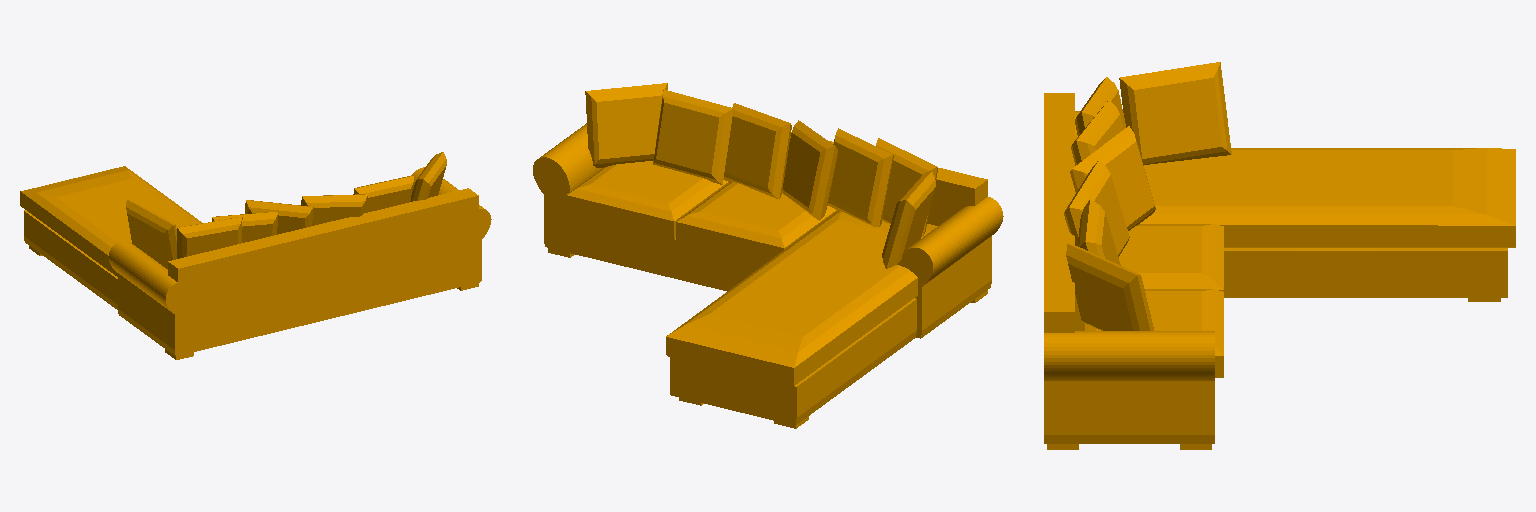
robot.urdf — 35ba544cb0a342e529404a50338e24e7:
<?xml version="1.0" ?>
<robot name="35ba544cb0a342e529404a50338e24e7">

  <link name="base">

    <inertial>
      <mass value="1"/>
      <inertia ixx="1" ixy="0" ixz="0" iyy="1" iyz="0" izz="1"/>
    </inertial>

    <visual>
      <origin rpy="1.57079 0 0" xyz="0 0 0.24"/>
      <geometry>
        <mesh filename ="models/model_normalized.obj" scale="2 2 2"/>
      </geometry>
    </visual>

    <collision>
      <origin rpy="1.57079 0 0" xyz="0 0 0.24"/>
      <geometry>
        <mesh filename ="models/model_normalized.obj" scale="2 2 2"/>
      </geometry>
    </collision>

  </link>
  
</robot>

--- What the picture shows (computed from the rendered views, not written in the file) ---
The picture shows the robot from 3 angles, left to right: view 1: azimuth 30°, elevation 25°; view 2: azimuth 150°, elevation 25°; view 3: azimuth 270°, elevation 25°; orthographic projection.
Robot: 35ba544cb0a342e529404a50338e24e7 — 1 links, 0 joints (none); root link base; default pose: every joint at zero.
Visible links, largest first — view 1: base; view 2: base; view 3: base.
Boxes of the visible links, bbox=[...] form: base: bbox=[20, 152, 491, 359]; base: bbox=[533, 83, 1003, 428]; base: bbox=[1044, 62, 1515, 449].
Size in the robot's own frame: 1.48 by 1.24 by 0.5077 metres.
Meshes: 1 distinct files referenced, 1 mesh visuals loaded (1 OBJ).